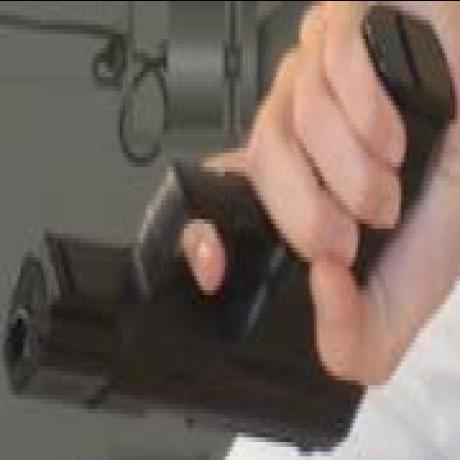1: (175, 0, 460, 393)
weapon: (3, 2, 456, 446)
